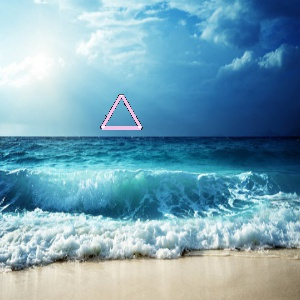triangle: (98, 91, 146, 133)
